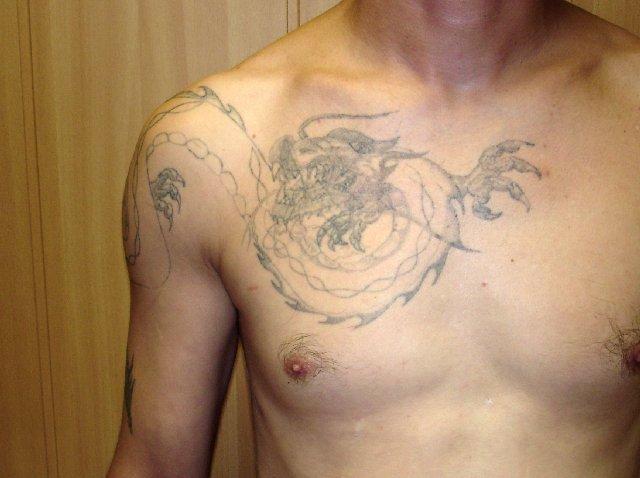tatu6_drakon: (99, 74, 582, 348)
